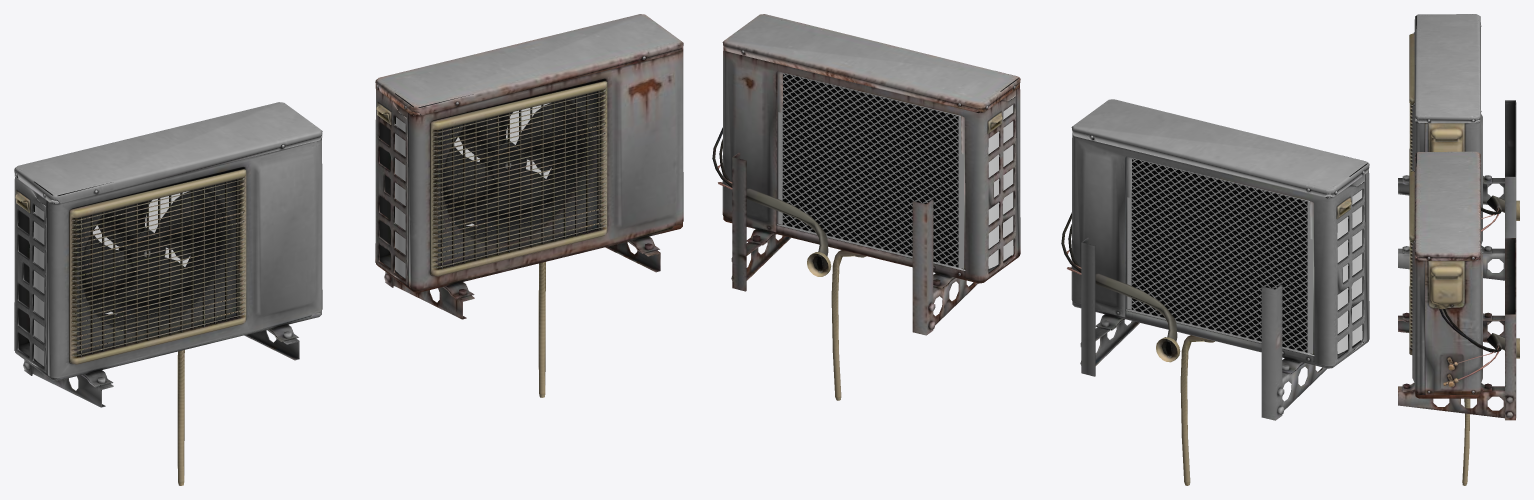
The model's file is exterior_aircon_unit.glb.
3 views of the same model, side by side, from view 1: azimuth 30°, elevation 25°; view 2: azimuth 150°, elevation 25°; view 3: azimuth 270°, elevation 25° (orthographic). The views are drawn at different scales.
Visible parts, largest first — view 1: exterior_aircon_unit, exterior_aircon_unit_rusted; view 2: exterior_aircon_unit_rusted, exterior_aircon_unit; view 3: exterior_aircon_unit_rusted, exterior_aircon_unit.
Boxes of the visible parts, x1=… form: exterior_aircon_unit: x1=14, y1=102, x2=322, y2=485; exterior_aircon_unit_rusted: x1=375, y1=14, x2=683, y2=397; exterior_aircon_unit_rusted: x1=712, y1=14, x2=1020, y2=400; exterior_aircon_unit: x1=1061, y1=99, x2=1369, y2=485; exterior_aircon_unit_rusted: x1=1398, y1=151, x2=1519, y2=485; exterior_aircon_unit: x1=1398, y1=14, x2=1519, y2=280.
Bounding box in the file's own units: 1.8 × 0.9279 × 0.3742.
Materials: 4 (4 with a texture image).
